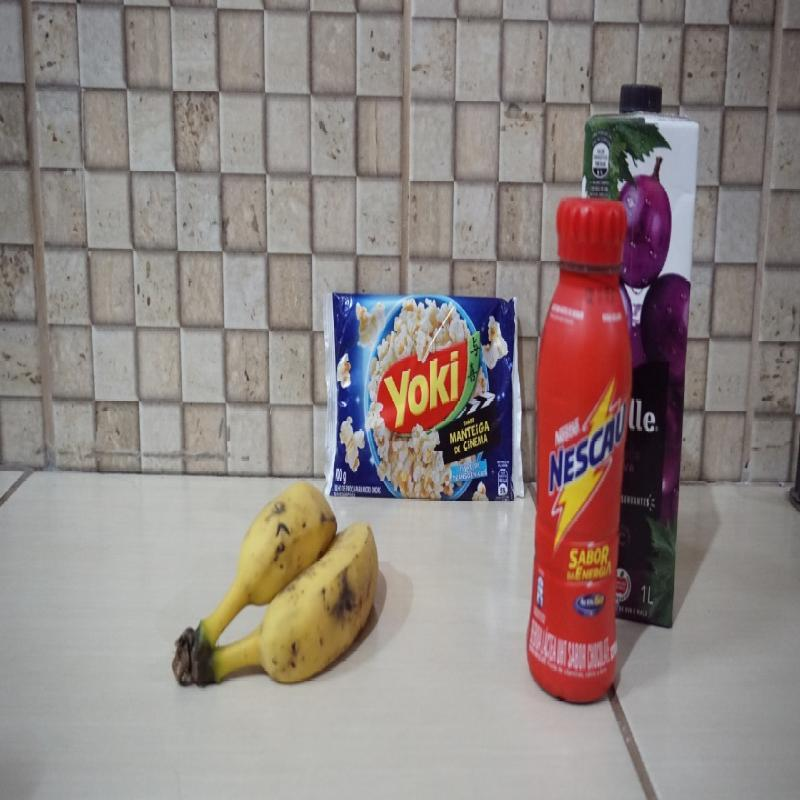Banana: (171, 480, 381, 689)
Chocolate Milk: (526, 193, 635, 706)
Popcorn: (320, 293, 526, 504)
